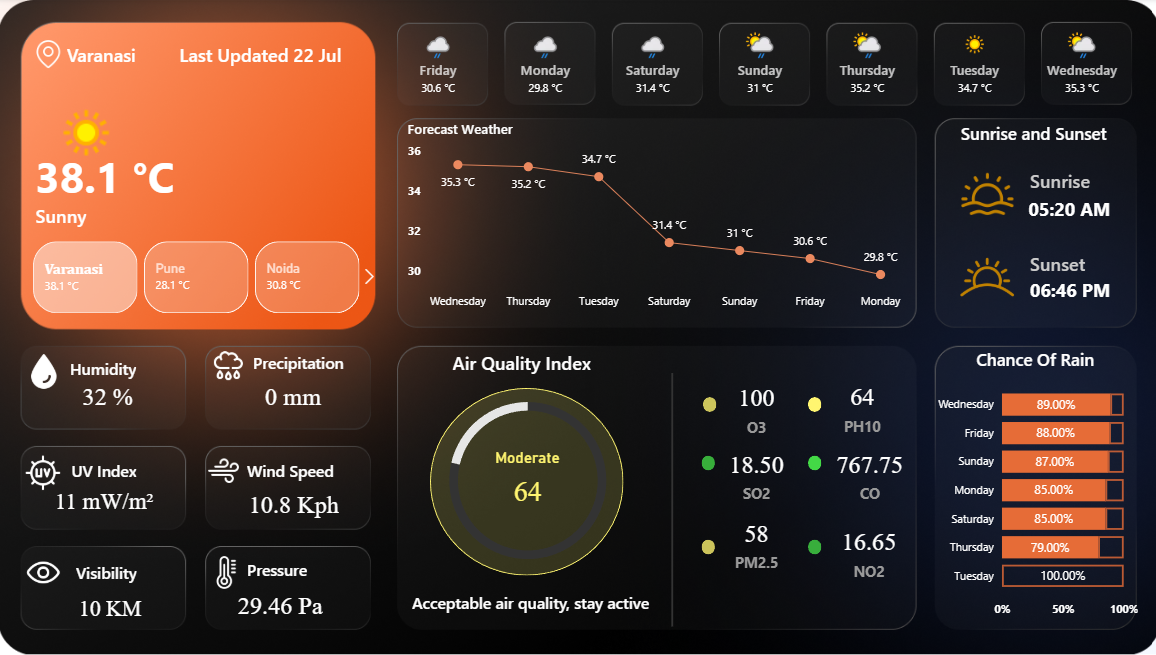

What the dashboard file says about the page in this screenshot:
{"tool":"powerbi","page":{"name":"Page 1","canvas":[1280,730],"ordinal":0},"visuals":[{"type":"shape","box":[475,428.8,212.7,206.1],"z":0},{"type":"advancedSlicerVisual","fields":{"Values":["Locations.location.name"]},"box":[13.2,262.2,410.6,89.1],"z":1000},{"type":"shape","box":[41.2,163.3,188,61],"z":2000},{"type":"shape","box":[41.2,216,247.4,46.2],"z":3000},{"type":"shape","box":[75.9,39.6,102.2,46.2],"z":4000},{"type":"shape","box":[199.5,39.6,202.8,46.2],"z":5000},{"type":"image","box":[34.6,29.7,41.2,64.3],"z":6000},{"type":"cardVisual","fields":{"Data":["Min(Current.current.condition.icon)"]},"box":[34.6,85.8,130.3,95.6],"z":7000},{"type":"image","box":[23.1,603.6,52.8,56.1],"z":8000},{"type":"image","box":[227.6,379.3,51.1,49.5],"z":9000},{"type":"image","box":[1042.3,262.2,90.7,89.1],"z":10000},{"type":"image","box":[1053.8,181.4,67.6,67.6],"z":11000},{"type":"image","box":[227.6,603.6,46.2,56.1],"z":12000},{"type":"image","box":[23.1,496.4,52.8,51.1],"z":13000},{"type":"image","box":[222.6,496.4,51.1,46.2],"z":14000},{"type":"image","box":[24.7,384.2,51.1,52.8],"z":15000},{"type":"shape","box":[85.8,606.9,79.2,49.5],"z":16000},{"type":"shape","box":[79.2,384.2,90.7,46.2],"z":17000},{"type":"shape","box":[273.8,496.4,115.4,46.2],"z":18000},{"type":"shape","box":[280.4,377.7,102.2,46.2],"z":19000},{"type":"shape","box":[273.8,606.9,102.2,42.9],"z":20000},{"type":"shape","box":[80.8,496.4,84.1,46.2],"z":21000},{"type":"card","fields":{"Values":["_Measures.Current_Humidity"]},"box":[75.9,410.6,89.1,54.4],"z":22000},{"type":"card","fields":{"Values":["_Measures.Current_precipitation"]},"box":[270.5,412.3,107.2,51.1],"z":23000},{"type":"card","fields":{"Values":["_Measures.Current_UV_index"]},"box":[51.1,522.8,130.3,59.4],"z":24000},{"type":"card","fields":{"Values":["_Measures.Current_wind_speed"]},"box":[263.9,531,122,51.1],"z":25000},{"type":"card","fields":{"Values":["_Measures.Current_Pressure"]},"box":[249,643.2,122,49.5],"z":26000},{"type":"card","fields":{"Values":["_Measures.current_visibility"]},"box":[67.6,649.8,110.5,42.9],"z":27000},{"type":"advancedSlicerVisual","fields":{"Values":["Forcast_day.Day_name"]},"box":[423.8,14.8,834.5,110.5],"z":28000},{"type":"lineChart","title":"Forecast Weather","fields":{"Y":["Sum(Forcast_day.forecast.forecastday.day.avgtemp_c)"],"Category":["Forcast_day.Day_name"]},"box":[445.3,133.6,560.7,217.7],"z":29000},{"type":"shape","box":[1134.6,181.4,90.7,39.6],"z":30000},{"type":"shape","box":[1134.6,270.5,69.3,42.9],"z":31000},{"type":"shape","box":[1133,216,110.5,31.3],"z":32000},{"type":"shape","box":[1134.6,298.5,108.8,44.5],"z":33000},{"type":"shape","box":[1053.8,125.3,169.9,46.2],"z":34000},{"type":"hundredPercentStackedBarChart","title":"Chance Of Rain ","fields":{"Y":["Sum(Forcast_day.forecast.forecastday.day.daily_chance_of_rain)","_Measures.left_value_rain"],"Category":["Forcast_day.Day_name"]},"box":[1022.5,384.2,235.8,305.1],"z":35000},{"type":"shape","box":[499.7,381,164.9,39.6],"z":36000},{"type":"card","fields":{"Values":["Sum(Current.current.air_quality.pm10)"]},"box":[905.4,409,89.1,79.2],"z":37000},{"type":"card","fields":{"Values":["Sum(Current.current.air_quality.co)"]},"box":[912,486.5,92.4,72.6],"z":38000},{"type":"card","fields":{"Values":["Sum(Current.current.air_quality.no2)"]},"box":[912,569,90.7,77.5],"z":39000},{"type":"card","fields":{"Values":["Sum(Current.current.air_quality.pm2_5)"]},"box":[788.3,559.1,90.7,79.2],"z":40000},{"type":"card","fields":{"Values":["Sum(Current.current.air_quality.so2)"]},"box":[788.3,486.5,90.7,72.6],"z":41000},{"type":"card","fields":{"Values":["Sum(Current.current.air_quality.o3)"]},"box":[788.3,410.6,90.7,77.5],"z":42000},{"type":"shape","box":[775.1,438.7,14.8,16.5],"z":43000},{"type":"shape","box":[773.4,503,14.8,16.5],"z":44000},{"type":"shape","box":[773.4,595.3,14.8,16.5],"z":45000},{"type":"shape","box":[890.5,438.7,14.8,16.5],"z":46000},{"type":"shape","box":[890.5,503,14.8,16.5],"z":47000},{"type":"shape","box":[890.5,595.3,14.8,16.5],"z":48000},{"type":"shape","box":[725.6,412.3,31.3,278.7],"z":49000},{"type":"card","fields":{"Values":["Sum(Current.current.air_quality.pm10)"]},"box":[524.4,494.7,115.4,74.2],"z":50000},{"type":"donutChart","fields":{"Y":["_Measures.Left_PH10_value","Sum(Current.current.air_quality.pm10)"]},"box":[423.8,417.2,316.6,225.9],"z":51000},{"type":"shape","box":[445.3,638.2,280.4,54.4],"z":52000}]}

Visuals, with their boxes in screenshot pixels (x1, y1, x2, y2), scaled from the page's 1280x730 canvas onto the 1156x655 screenshot:
shape: x1=429 y1=385 x2=621 y2=570
advancedSlicerVisual - Locations.location.name: x1=12 y1=235 x2=383 y2=315
shape: x1=37 y1=147 x2=207 y2=201
shape: x1=37 y1=194 x2=261 y2=235
shape: x1=69 y1=36 x2=161 y2=77
shape: x1=180 y1=36 x2=363 y2=77
image: x1=31 y1=27 x2=68 y2=84
cardVisual - Min(Current.current.condition.icon): x1=31 y1=77 x2=149 y2=163
image: x1=21 y1=542 x2=69 y2=592
image: x1=206 y1=340 x2=252 y2=385
image: x1=941 y1=235 x2=1023 y2=315
image: x1=952 y1=163 x2=1013 y2=223
image: x1=206 y1=542 x2=247 y2=592
image: x1=21 y1=445 x2=69 y2=491
image: x1=201 y1=445 x2=247 y2=487
image: x1=22 y1=345 x2=68 y2=392
shape: x1=77 y1=545 x2=149 y2=589
shape: x1=72 y1=345 x2=153 y2=386
shape: x1=247 y1=445 x2=351 y2=487
shape: x1=253 y1=339 x2=346 y2=380
shape: x1=247 y1=545 x2=340 y2=583
shape: x1=73 y1=445 x2=149 y2=487
card - _Measures.Current_Humidity: x1=69 y1=368 x2=149 y2=417
card - _Measures.Current_precipitation: x1=244 y1=370 x2=341 y2=416
card - _Measures.Current_UV_index: x1=46 y1=469 x2=164 y2=522
card - _Measures.Current_wind_speed: x1=238 y1=476 x2=349 y2=522
card - _Measures.Current_Pressure: x1=225 y1=577 x2=335 y2=622
card - _Measures.current_visibility: x1=61 y1=583 x2=161 y2=622
advancedSlicerVisual - Forcast_day.Day_name: x1=383 y1=13 x2=1136 y2=112
"Forecast Weather" lineChart: x1=402 y1=120 x2=909 y2=315
shape: x1=1025 y1=163 x2=1107 y2=198
shape: x1=1025 y1=243 x2=1087 y2=281
shape: x1=1023 y1=194 x2=1123 y2=222
shape: x1=1025 y1=268 x2=1123 y2=308
shape: x1=952 y1=112 x2=1105 y2=154
"Chance Of Rain " hundredPercentStackedBarChart: x1=923 y1=345 x2=1136 y2=618
shape: x1=451 y1=342 x2=600 y2=377
card - Sum(Current.current.air_quality.pm10): x1=818 y1=367 x2=898 y2=438
card - Sum(Current.current.air_quality.co): x1=824 y1=437 x2=907 y2=502
card - Sum(Current.current.air_quality.no2): x1=824 y1=511 x2=906 y2=580
card - Sum(Current.current.air_quality.pm2_5): x1=712 y1=502 x2=794 y2=573
card - Sum(Current.current.air_quality.so2): x1=712 y1=437 x2=794 y2=502
card - Sum(Current.current.air_quality.o3): x1=712 y1=368 x2=794 y2=438
shape: x1=700 y1=394 x2=713 y2=408
shape: x1=698 y1=451 x2=712 y2=466
shape: x1=698 y1=534 x2=712 y2=549
shape: x1=804 y1=394 x2=818 y2=408
shape: x1=804 y1=451 x2=818 y2=466
shape: x1=804 y1=534 x2=818 y2=549
shape: x1=655 y1=370 x2=684 y2=620
card - Sum(Current.current.air_quality.pm10): x1=474 y1=444 x2=578 y2=510
donutChart - _Measures.Left_PH10_value x Sum(Current.current.air_quality.pm10): x1=383 y1=374 x2=669 y2=577
shape: x1=402 y1=573 x2=655 y2=621
